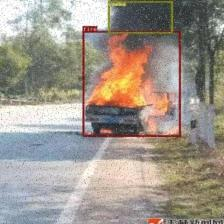smoke: (108, 1, 172, 33)
